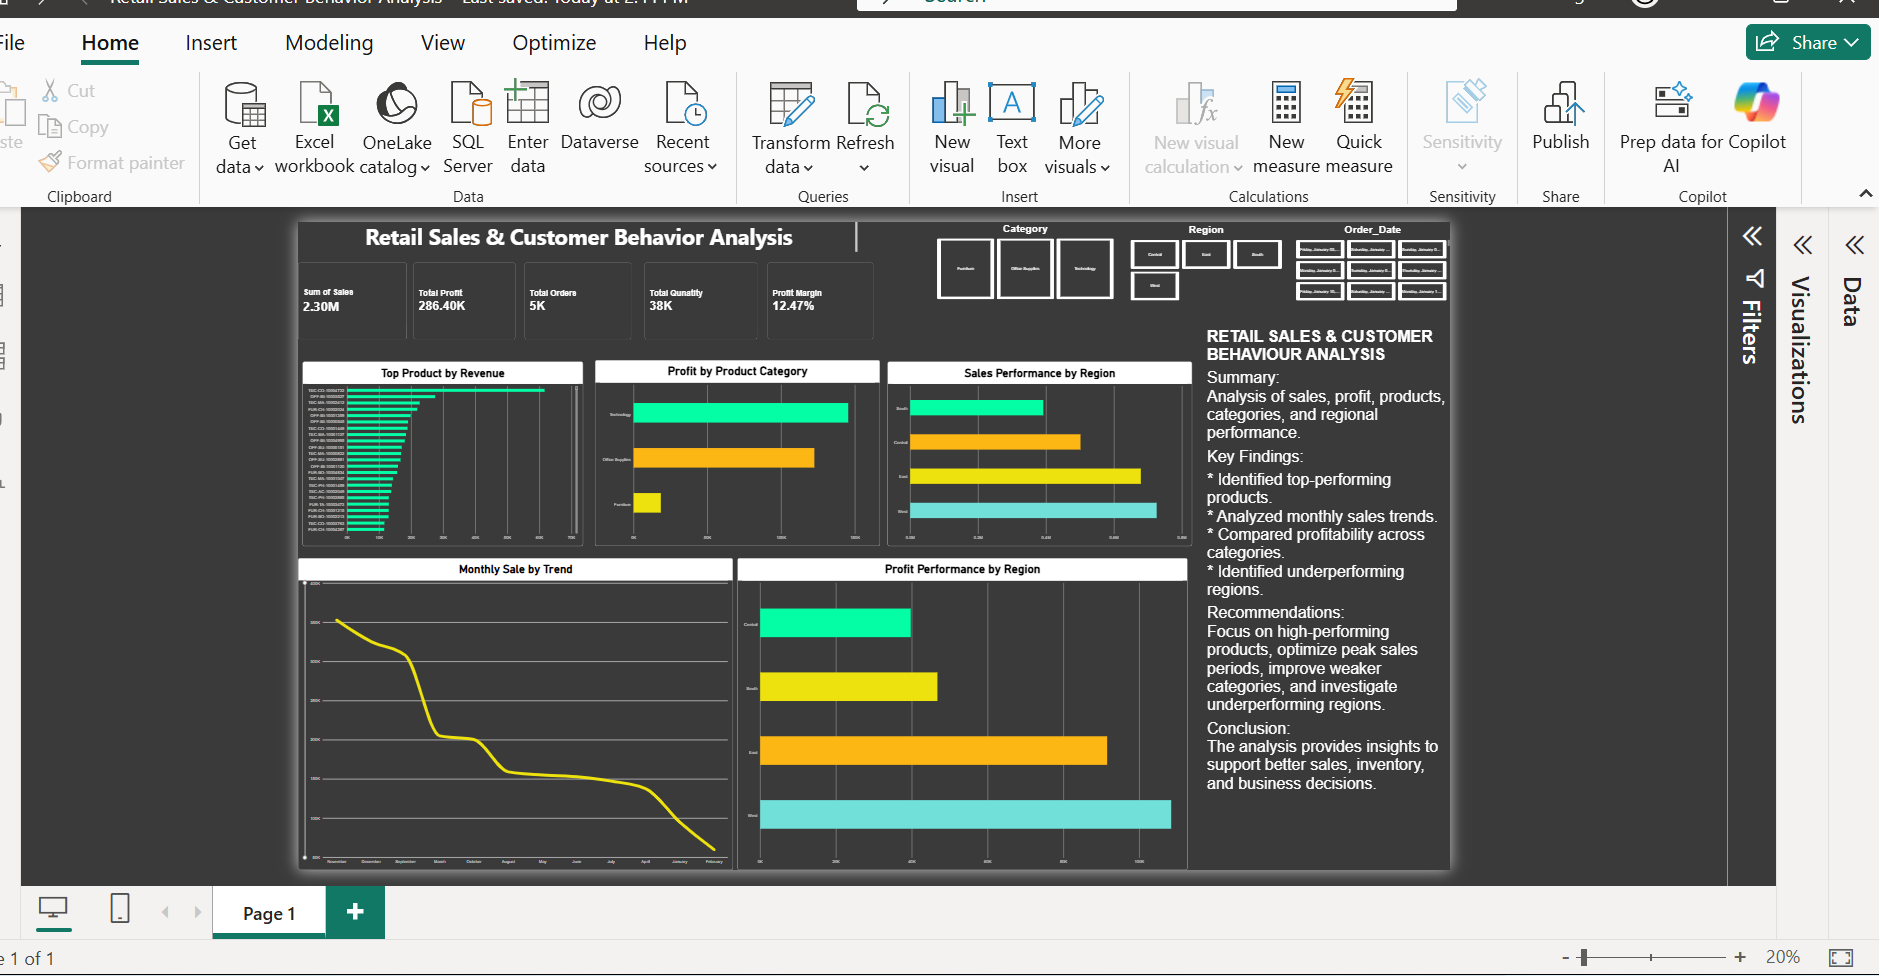

This screenshot's page, from the dashboard's own definition file:
{"tool":"powerbi","page":{"name":"Page 1","canvas":[3840,2160],"ordinal":0},"visuals":[{"type":"cardVisual","title":"SUM OF SALES","fields":{"Data":["Sum(RetailAndCustomerBehaviourAnalysis1.Sales)"]},"box":[0,136.7,363.3,256.7],"z":0},{"type":"textbox","box":[0,0,1865,105],"z":1000},{"type":"cardVisual","fields":{"Data":["RetailAndCustomerBehaviourAnalysis1.Total Profit"]},"box":[386.7,136.7,340,256.7],"z":2000},{"type":"cardVisual","fields":{"Data":["RetailAndCustomerBehaviourAnalysis1.Total Orders"]},"box":[756.7,136.7,356.7,256.7],"z":3000},{"type":"cardVisual","fields":{"Data":["RetailAndCustomerBehaviourAnalysis1.Total Qunatity"]},"box":[1153.3,136.7,376.7,256.7],"z":4000},{"type":"cardVisual","fields":{"Data":["RetailAndCustomerBehaviourAnalysis1.Profit Margin"]},"box":[1566.7,136.7,353.3,256.7],"z":5000},{"type":"clusteredBarChart","title":"Top Product by Revenue","fields":{"Category":["RetailAndCustomerBehaviourAnalysis1.Product_ID"],"Y":["RetailAndCustomerBehaviourAnalysis1.Total Sales"]},"box":[15,465,935,615],"z":6000},{"type":"lineChart","title":"Monthly Sale by Trend","fields":{"Category":["RetailAndCustomerBehaviourAnalysis1.Month"],"Y":["RetailAndCustomerBehaviourAnalysis1.Total Sales"]},"box":[0,1120,1450,1040],"z":7000},{"type":"clusteredBarChart","title":"Sales Performance by  Region","fields":{"Category":["RetailAndCustomerBehaviourAnalysis1.Region"],"Y":["RetailAndCustomerBehaviourAnalysis1.Total Sales"]},"box":[1965,465,1015,615],"z":8000},{"type":"clusteredBarChart","title":"Profit by Product Category","fields":{"Category":["RetailAndCustomerBehaviourAnalysis1.Category"],"Y":["RetailAndCustomerBehaviourAnalysis1.Total Profit"]},"box":[990,460,950,620],"z":9000},{"type":"clusteredBarChart","title":"Profit Performance by Region ","fields":{"Category":["RetailAndCustomerBehaviourAnalysis1.Region"],"Y":["RetailAndCustomerBehaviourAnalysis1.Total Profit"]},"box":[1466.7,1122.2,1500,1040],"z":10000},{"type":"textbox","box":[3027.8,350,816.7,1811.1],"z":11000},{"type":"advancedSlicerVisual","fields":{"Values":["RetailAndCustomerBehaviourAnalysis1.Order_Date"]},"box":[3326.3,5.3,515.8,257.9],"z":12000},{"type":"advancedSlicerVisual","fields":{"Values":["RetailAndCustomerBehaviourAnalysis1.Region"]},"box":[2773.7,5.3,505.3,257.9],"z":13000},{"type":"advancedSlicerVisual","fields":{"Values":["RetailAndCustomerBehaviourAnalysis1.Category"]},"box":[2130,0,589.5,257.9],"z":14000}]}

Visuals, with their boxes on the page's 3840x2160 design canvas (x1, y1, x2, y2). These are canvas units, not pixel positions in the 1879x976 screenshot, which may show the page scaled, cropped or inside an application window:
"SUM OF SALES" cardVisual: x1=0, y1=137, x2=363, y2=393
textbox: x1=0, y1=0, x2=1865, y2=105
cardVisual - RetailAndCustomerBehaviourAnalysis1.Total Profit: x1=387, y1=137, x2=727, y2=393
cardVisual - RetailAndCustomerBehaviourAnalysis1.Total Orders: x1=757, y1=137, x2=1113, y2=393
cardVisual - RetailAndCustomerBehaviourAnalysis1.Total Qunatity: x1=1153, y1=137, x2=1530, y2=393
cardVisual - RetailAndCustomerBehaviourAnalysis1.Profit Margin: x1=1567, y1=137, x2=1920, y2=393
"Top Product by Revenue" clusteredBarChart: x1=15, y1=465, x2=950, y2=1080
"Monthly Sale by Trend" lineChart: x1=0, y1=1120, x2=1450, y2=2160
"Sales Performance by  Region" clusteredBarChart: x1=1965, y1=465, x2=2980, y2=1080
"Profit by Product Category" clusteredBarChart: x1=990, y1=460, x2=1940, y2=1080
"Profit Performance by Region " clusteredBarChart: x1=1467, y1=1122, x2=2967, y2=2162
textbox: x1=3028, y1=350, x2=3844, y2=2161
advancedSlicerVisual - RetailAndCustomerBehaviourAnalysis1.Order_Date: x1=3326, y1=5, x2=3842, y2=263
advancedSlicerVisual - RetailAndCustomerBehaviourAnalysis1.Region: x1=2774, y1=5, x2=3279, y2=263
advancedSlicerVisual - RetailAndCustomerBehaviourAnalysis1.Category: x1=2130, y1=0, x2=2720, y2=258
